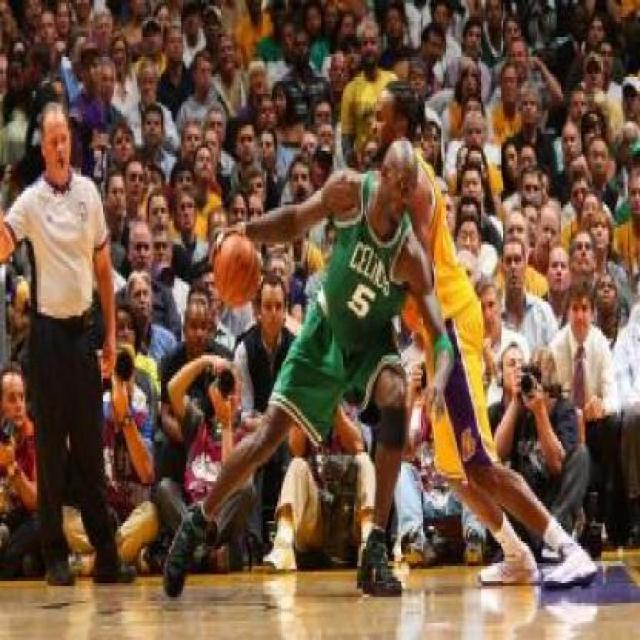basketball: (214, 233, 260, 304)
